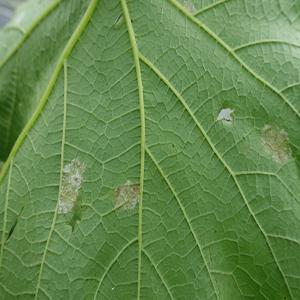Folha: (0, 0, 299, 299)
Fungo: (57, 156, 86, 216), (260, 123, 292, 164), (112, 179, 140, 213), (214, 107, 234, 123)
